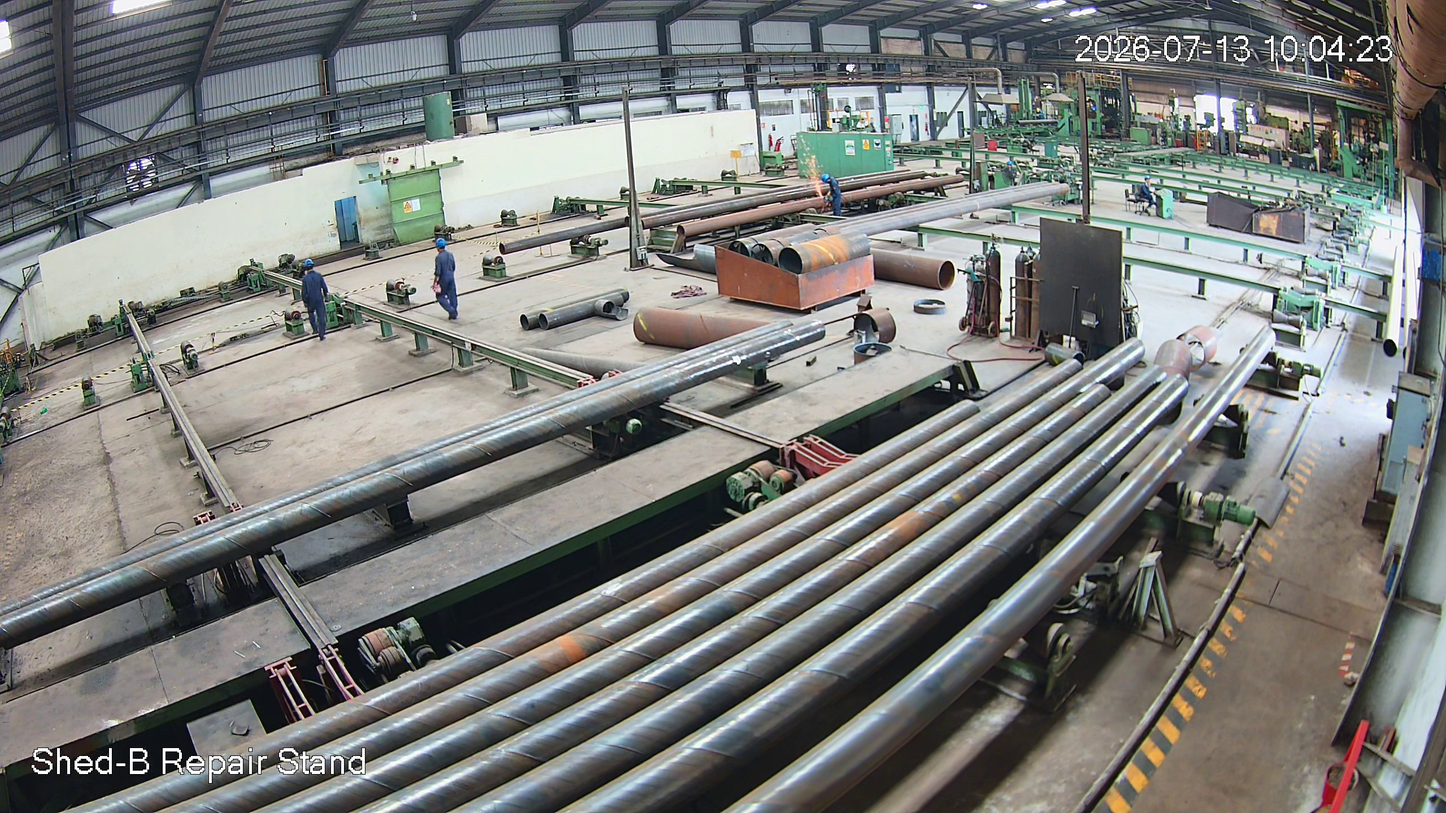Helmet: (433, 236, 452, 256), (302, 258, 317, 273)
Person: (297, 258, 333, 342), (430, 239, 464, 321)
